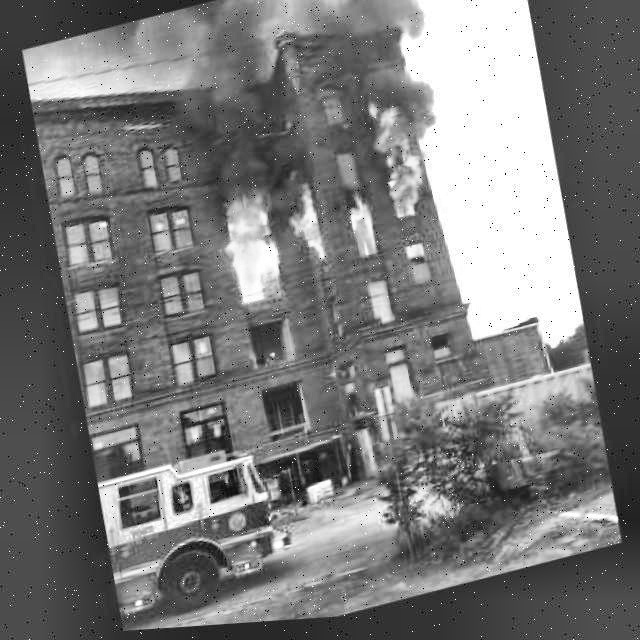Fire: (194, 102, 451, 317)
Smoke: (107, 0, 470, 202)
